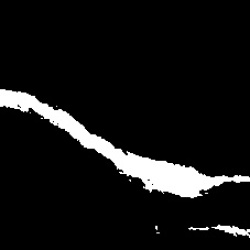crack: (1, 90, 248, 197), (193, 225, 249, 238), (155, 227, 158, 233)
